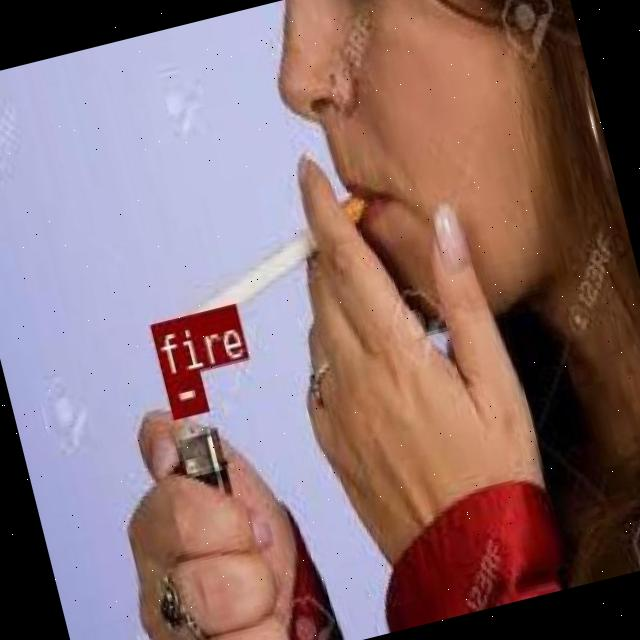fire: (160, 368, 205, 417)
